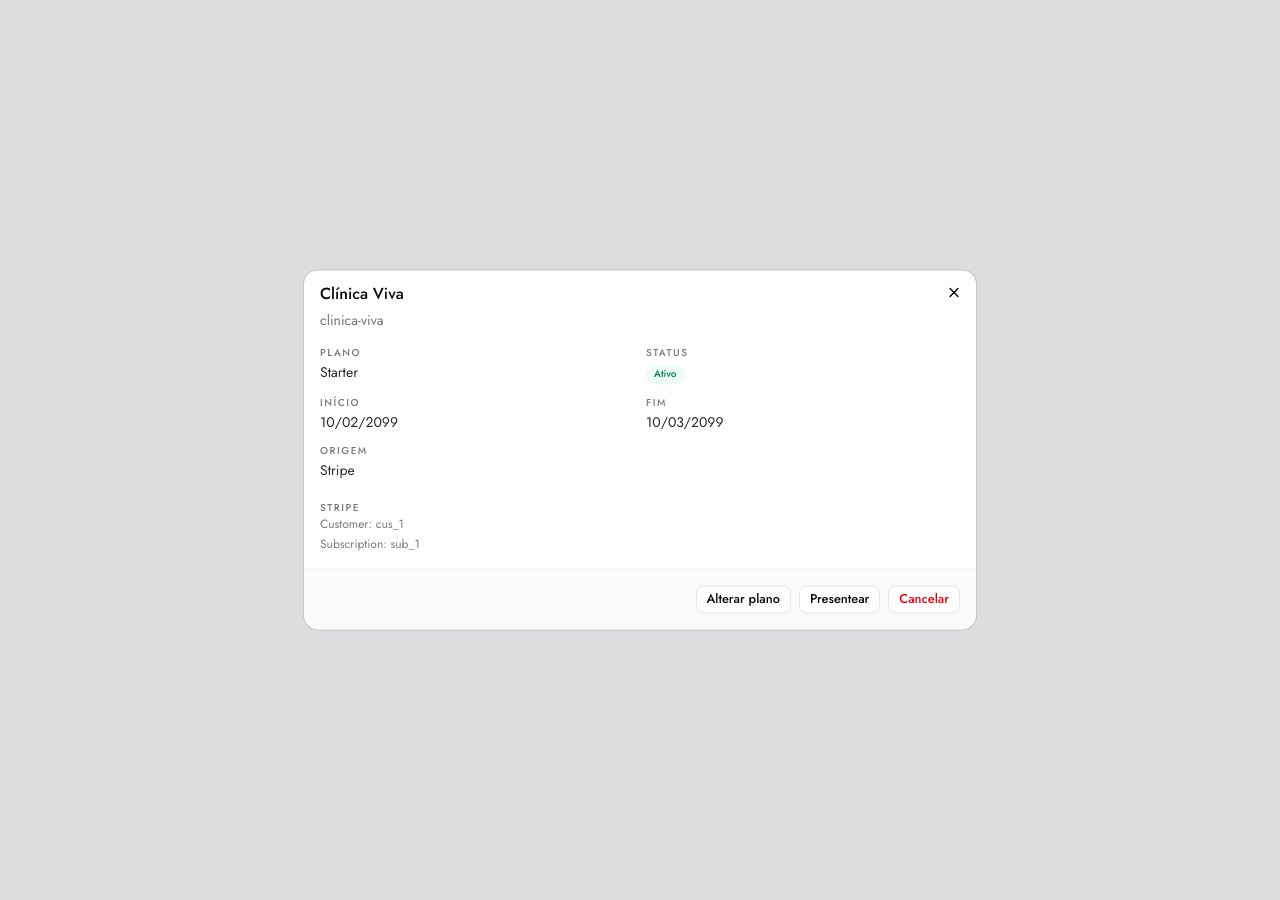
Test: SubscriptionDetailDialog on a Stripe subscription › explains why a gift is not possible while Stripe still bills the clinic
Click the button "Presentear" at (840, 600), box left=799, top=586, right=880, bottom=614
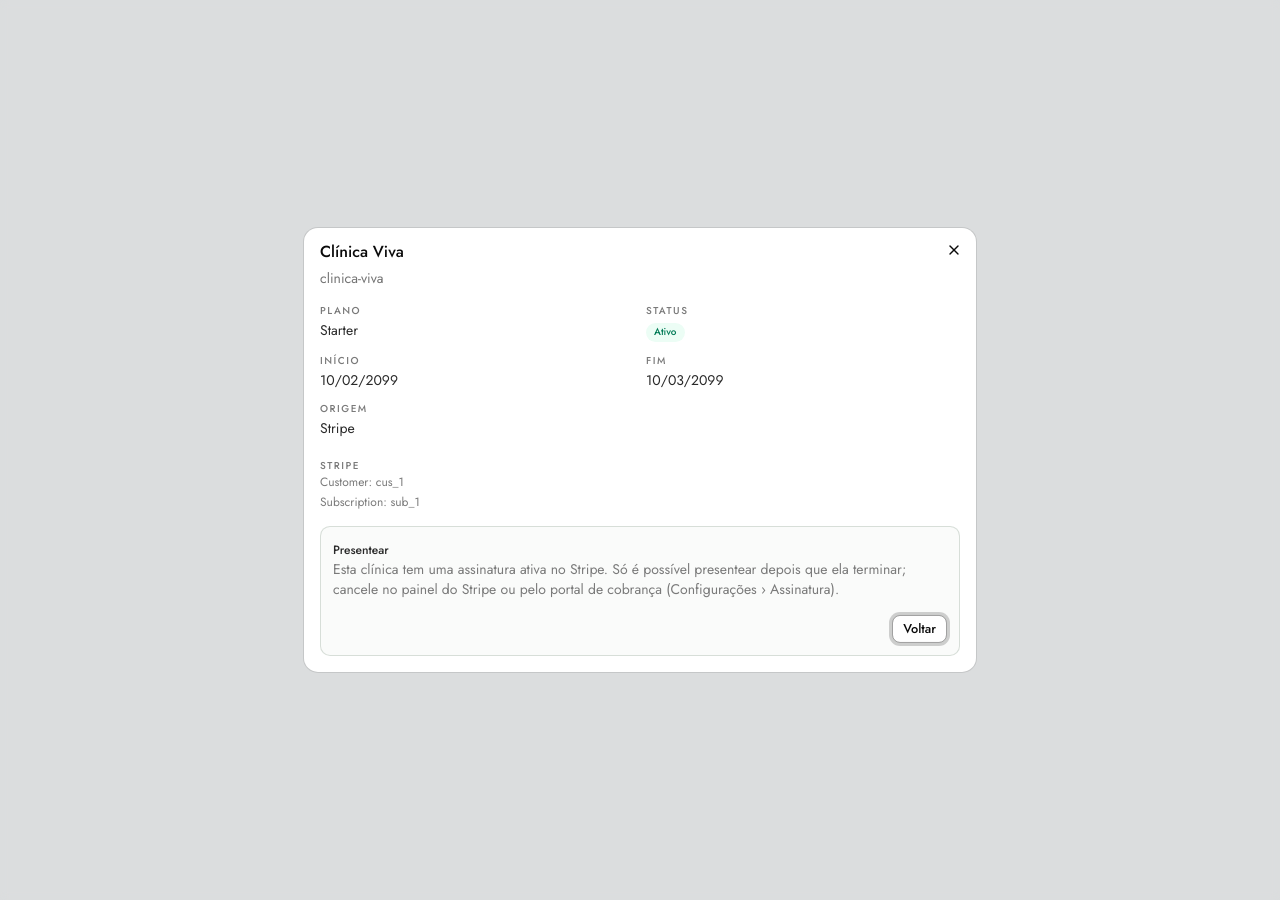
Expected: the text with test id "admin-stripe-gift" shows "assinatura ativa no Stripe", left=333, top=559, right=906, bottom=599
